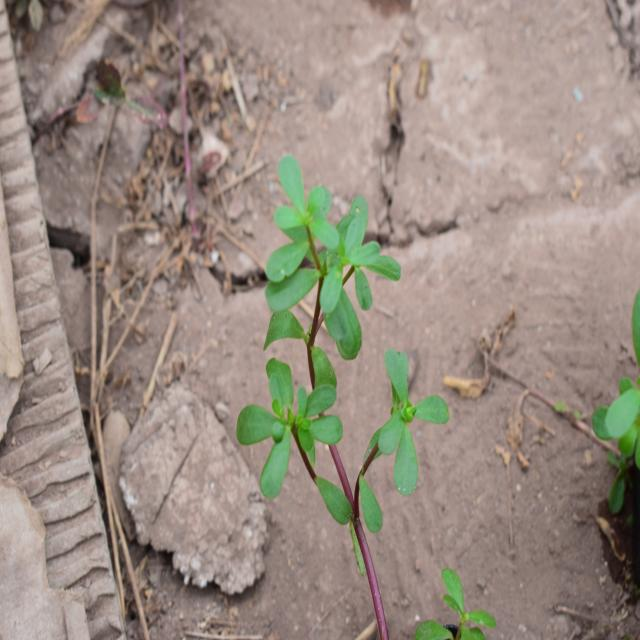purslane: (239, 155, 445, 557)
